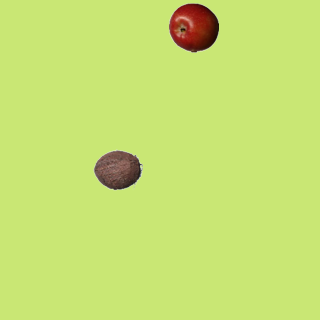Apple Braeburn: (168, 2, 218, 52)
Cocos: (92, 144, 142, 194)
